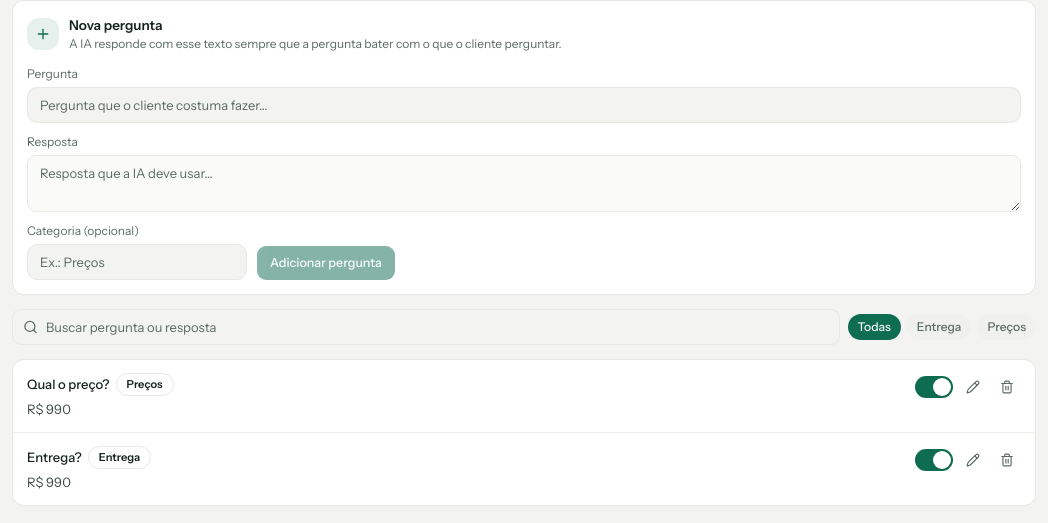
Test: AiFaqPanel (Cérebro da IA v3, Fase 2) › filtro por categoria mostra só as FAQs daquela categoria
Check: the text "Qual o preço?" is shown, box [27,375,110,394]
Click the button "Entrega": (939,327) [907,314,971,340]
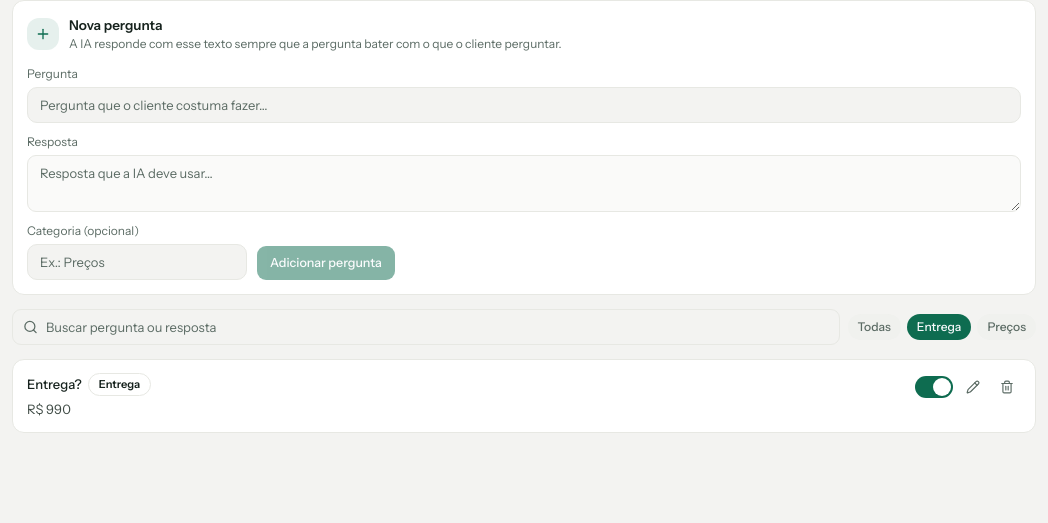
Check: the text "Entrega?" is shown, box [27,375,82,394]
Check: the text "Qual o preço?" is gone
